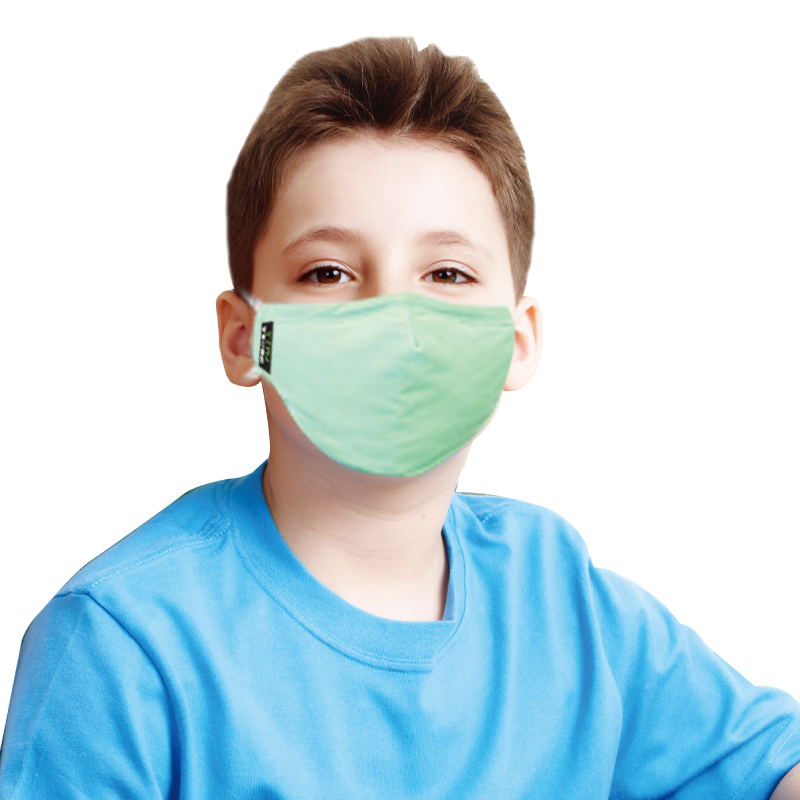face_mask: (254, 123, 512, 468)
